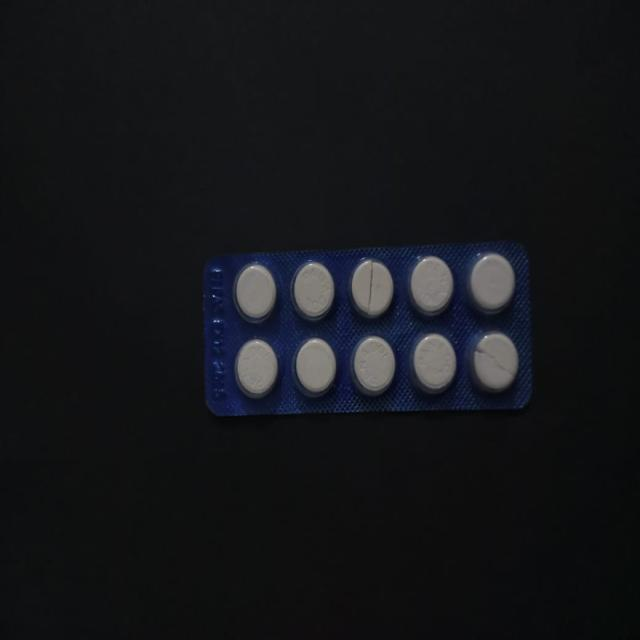defect: (466, 325, 522, 399), (349, 255, 397, 322)
